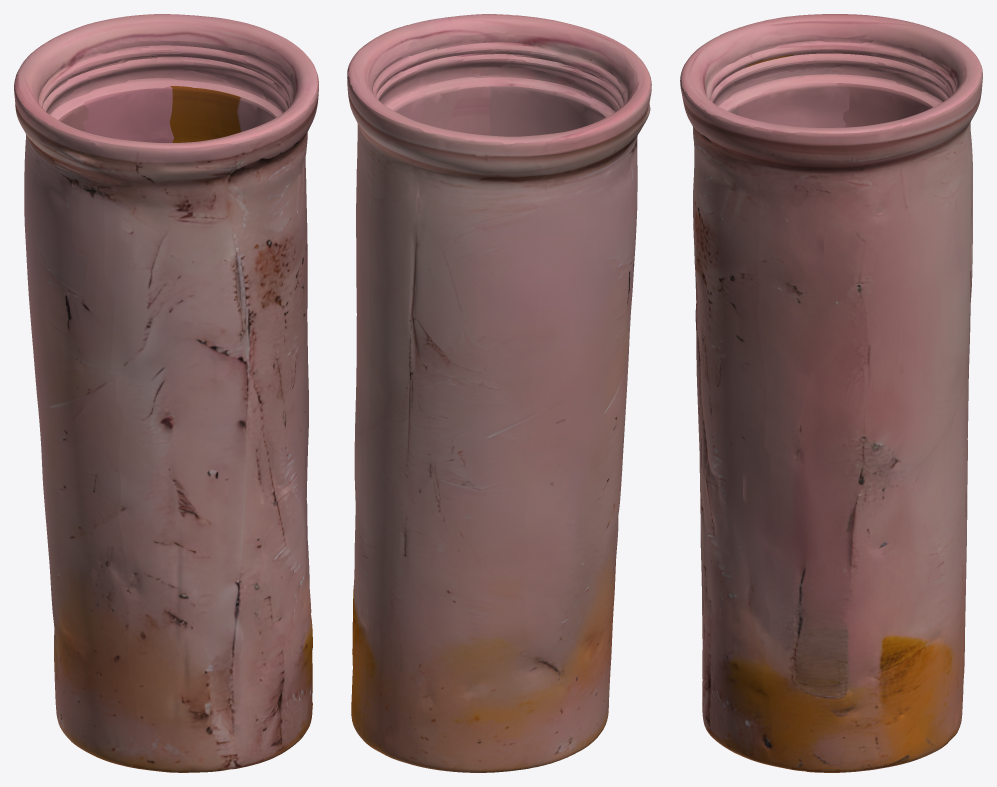
Rendered from iter_12.glb.
3 views of the same model, side by side, from view 1: azimuth 30°, elevation 25°; view 2: azimuth 150°, elevation 25°; view 3: azimuth 270°, elevation 25° (orthographic).
Parts seen in each view (by area): view 1: textured_mesh; view 2: textured_mesh; view 3: textured_mesh.
Boxes of the visible parts, x1,y1,x2,y2 form: textured_mesh: (14, 14, 318, 772); textured_mesh: (347, 14, 651, 772); textured_mesh: (680, 14, 982, 772).
Size of the model in its own units: 0.843 by 1.99 by 0.8458.
Materials: 1 (1 with a texture image).
